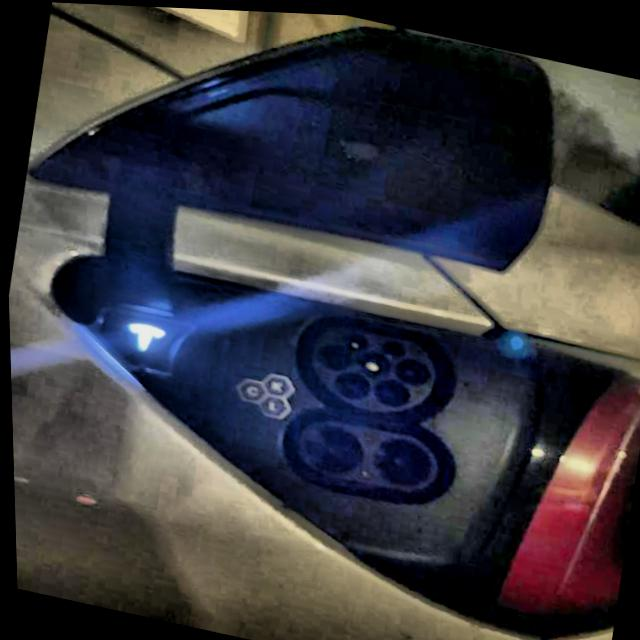inlet: (310, 321, 433, 407)
inlet-above-left: (339, 327, 366, 347)
inlet-above-right: (377, 335, 404, 353)
inlet-below-left: (332, 369, 367, 395)
inlet-below-right: (372, 376, 407, 402)
inlet-center: (354, 347, 387, 374)
inlet-center-left: (313, 339, 350, 366)
inlet-center-right: (392, 354, 427, 380)
